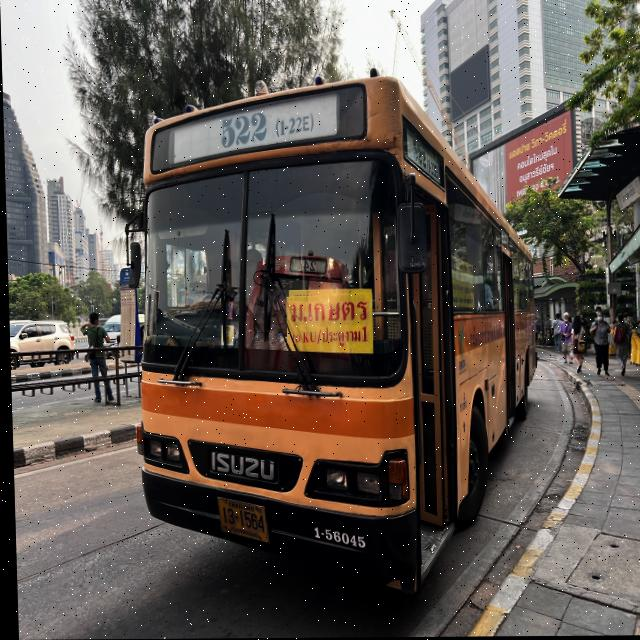BMTA-bus: (134, 76, 535, 599)
Bus Line Number: (215, 108, 316, 152)
Bus Side Number: (308, 522, 368, 555)
Destination Sign: (283, 294, 371, 354)
